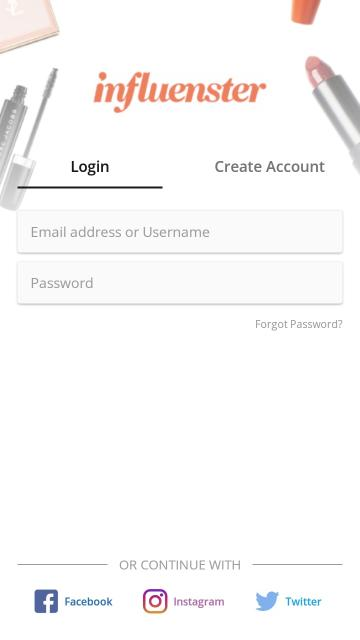EditText: (17, 260, 343, 304), (17, 210, 343, 253)
Image: (93, 71, 266, 113), (142, 588, 168, 614), (34, 589, 58, 613), (255, 591, 279, 611)
Multi_Tab: (17, 150, 342, 188)
Text: (31, 226, 209, 238), (215, 160, 325, 172), (120, 559, 241, 569), (256, 320, 342, 330), (31, 276, 92, 288), (174, 596, 224, 608), (72, 160, 108, 176), (65, 596, 113, 606), (285, 596, 321, 606)
